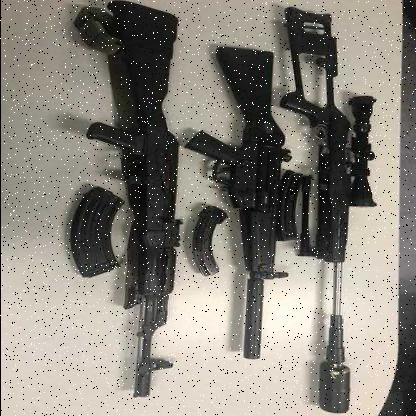rifle: (268, 0, 395, 415), (65, 0, 186, 415), (180, 16, 306, 369)
